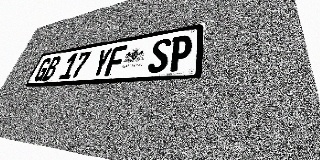1: (58, 53, 80, 80)
7: (69, 51, 91, 79)
B: (41, 56, 62, 81)
F: (104, 45, 128, 76)
G: (32, 57, 53, 82)
P: (167, 34, 193, 72)
S: (147, 37, 172, 73)
Y: (90, 47, 113, 77)
